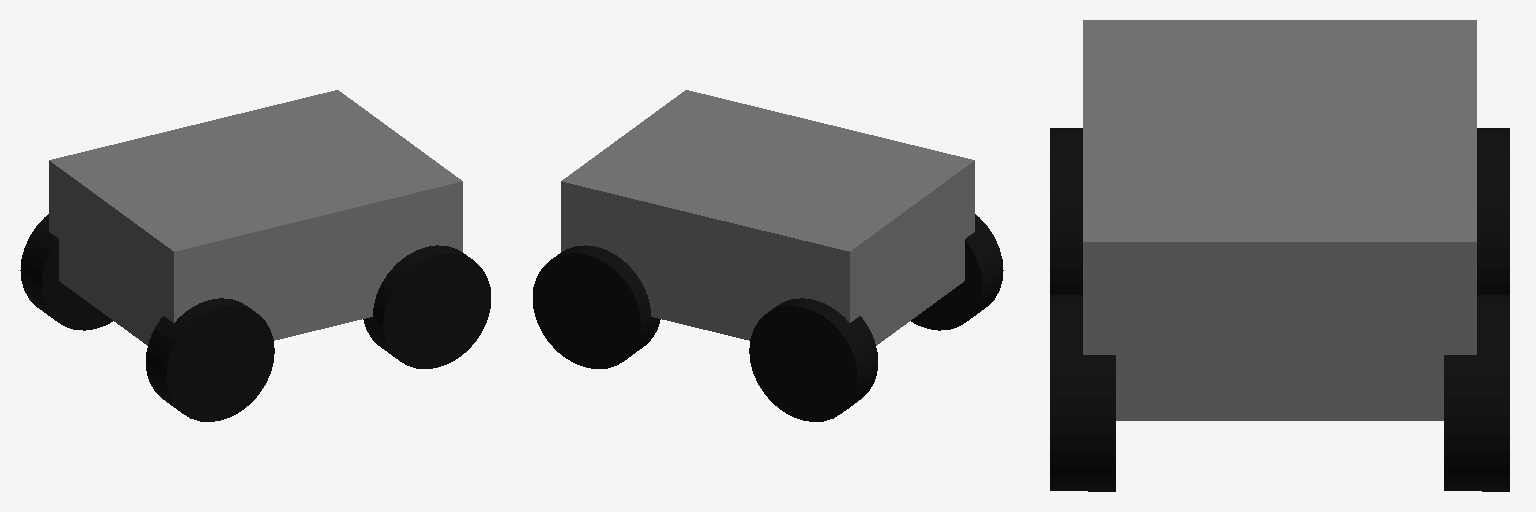
robot.urdf — Dummy_Rover:
<?xml version="1.0"?>
<robot name="Dummy_Rover">
  <!-- Base Chassis -->
  <link name="base_link">
    <visual>
      <geometry>
        <box size="0.8 0.6 0.3"/>
      </geometry>
      <material name="Gray">
        <color rgba="0.5 0.5 0.5 1"/>
      </material>
    </visual>
    <collision>
      <geometry>
        <box size="0.8 0.6 0.3"/>
      </geometry>
    </collision>
    <inertial>
      <mass value="20"/>
      <inertia ixx="1" ixy="0" ixz="0" iyy="1" iyz="0" izz="1"/>
    </inertial>
  </link>

  <!-- Four Wheels (using cylinders) -->
  <!-- Front Left -->
  <link name="front_left_wheel">
    <visual>
      <geometry>
        <cylinder radius="0.15" length="0.1"/>
      </geometry>
      <material name="Black">
        <color rgba="0.1 0.1 0.1 1"/>
      </material>
    </visual>
    <collision>
      <geometry>
        <cylinder radius="0.15" length="0.1"/>
      </geometry>
    </collision>
    <inertial>
      <mass value="2"/>
      <inertia ixx="0.1" ixy="0" ixz="0" iyy="0.1" iyz="0" izz="0.2"/>
    </inertial>
  </link>

  <!-- Front Right, Rear Left, Rear Right (copy-paste similar) -->
  <link name="front_right_wheel">
    <visual>
      <geometry>
        <cylinder radius="0.15" length="0.1"/>
      </geometry>
      <material name="Black"/>
    </visual>
    <collision>
      <geometry>
        <cylinder radius="0.15" length="0.1"/>
      </geometry>
    </collision>
    <inertial>
      <mass value="2"/>
      <inertia ixx="0.1" ixy="0" ixz="0" iyy="0.1" iyz="0" izz="0.2"/>
    </inertial>
  </link>

  <link name="rear_left_wheel">
    <visual>
      <geometry>
        <cylinder radius="0.15" length="0.1"/>
      </geometry>
      <material name="Black"/>
    </visual>
    <collision>
      <geometry>
        <cylinder radius="0.15" length="0.1"/>
      </geometry>
    </collision>
    <inertial>
      <mass value="2"/>
      <inertia ixx="0.1" ixy="0" ixz="0" iyy="0.1" iyz="0" izz="0.2"/>
    </inertial>
  </link>

  <link name="rear_right_wheel">
    <visual>
      <geometry>
        <cylinder radius="0.15" length="0.1"/>
      </geometry>
      <material name="Black"/>
    </visual>
    <collision>
      <geometry>
        <cylinder radius="0.15" length="0.1"/>
      </geometry>
    </collision>
    <inertial>
      <mass value="2"/>
      <inertia ixx="0.1" ixy="0" ixz="0" iyy="0.1" iyz="0" izz="0.2"/>
    </inertial>
  </link>

  <!-- Joints - Connect wheels to base -->
  <joint name="front_left_joint" type="continuous">
    <parent link="base_link"/>
    <child link="front_left_wheel"/>
    <origin xyz="0.3 0.3 -0.15" rpy="1.57 0 0"/>
    <axis xyz="0 0 1"/>
  </joint>

  <joint name="front_right_joint" type="continuous">
    <parent link="base_link"/>
    <child link="front_right_wheel"/>
    <origin xyz="0.3 -0.3 -0.15" rpy="1.57 0 0"/>
    <axis xyz="0 0 1"/>
  </joint>

  <joint name="rear_left_joint" type="continuous">
    <parent link="base_link"/>
    <child link="rear_left_wheel"/>
    <origin xyz="-0.3 0.3 -0.15" rpy="1.57 0 0"/>
    <axis xyz="0 0 1"/>
  </joint>

  <joint name="rear_right_joint" type="continuous">
    <parent link="base_link"/>
    <child link="rear_right_wheel"/>
    <origin xyz="-0.3 -0.3 -0.15" rpy="1.57 0 0"/>
    <axis xyz="0 0 1"/>
  </joint>

</robot>

--- Facts derived from the render (not from the file) ---
3 views of the same robot in one strip: view 1: azimuth 30°, elevation 25°; view 2: azimuth 150°, elevation 25°; view 3: azimuth 270°, elevation 25° (orthographic).
Robot: Dummy_Rover — 5 links, 4 joints (4 continuous); root link base_link; default pose: every joint at zero.
Links seen in each view (by area): view 1: base_link, rear_right_wheel, front_right_wheel, rear_left_wheel; view 2: base_link, rear_left_wheel, front_left_wheel, rear_right_wheel; view 3: base_link, front_left_wheel, front_right_wheel, rear_left_wheel, rear_right_wheel.
Boxes of the visible links, x1,y1,x2,y2 form: base_link: [49, 90, 462, 345]; rear_right_wheel: [146, 298, 274, 421]; front_right_wheel: [363, 245, 490, 368]; rear_left_wheel: [20, 214, 112, 330]; base_link: [561, 90, 974, 345]; rear_left_wheel: [749, 298, 877, 421]; front_left_wheel: [533, 245, 660, 368]; rear_right_wheel: [911, 214, 1003, 330]; base_link: [1083, 20, 1476, 420]; front_left_wheel: [1444, 295, 1509, 491]; front_right_wheel: [1050, 295, 1115, 491]; rear_left_wheel: [1477, 128, 1509, 294]; rear_right_wheel: [1050, 128, 1082, 294].
Bounding box of the posed robot: 0.9 × 0.7002 × 0.45 m (x, y, z).
Geometry: primitives only (box / cylinder / sphere), no mesh files.
